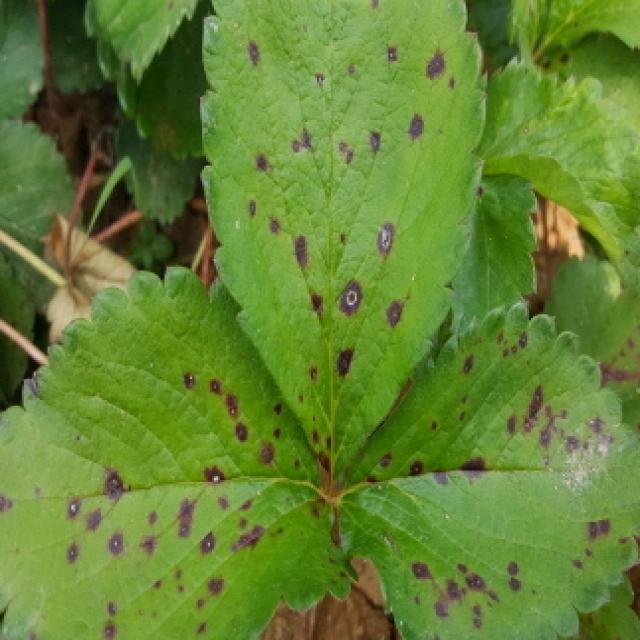Leaf Spot: (198, 0, 490, 491), (0, 264, 360, 640), (334, 304, 640, 640), (542, 253, 640, 433), (540, 35, 640, 134), (94, 0, 201, 90), (578, 580, 640, 640)
